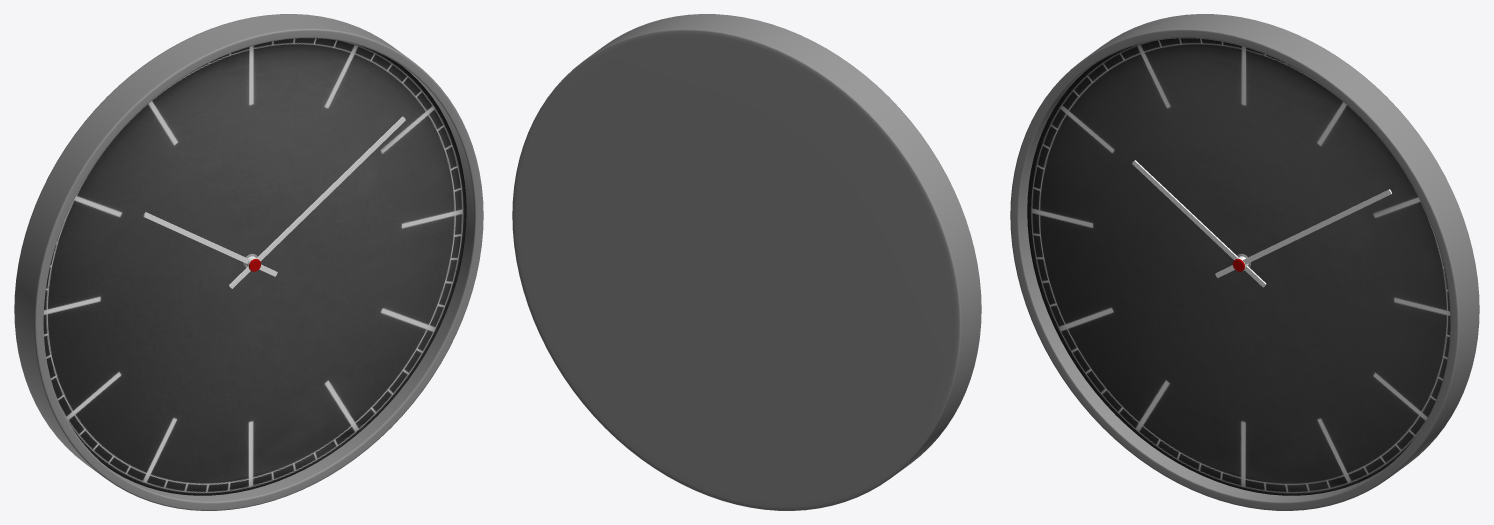
3 renders of one model, left to right at view 1: azimuth 30°, elevation 25°; view 2: azimuth 150°, elevation 25°; view 3: azimuth 330°, elevation 25°, orthographic.
Visible parts, largest first — view 1: Cylinder002, MetalRim, arrow001, arrow002; view 2: MetalRim; view 3: Cylinder002, MetalRim, arrow001, arrow002.
Part boxes in pixels (<box>): Cylinder002: <box>43,38,466,495</box>; MetalRim: <box>14,14,483,510</box>; arrow001: <box>229,116,405,288</box>; arrow002: <box>143,212,277,276</box>; MetalRim: <box>512,14,981,510</box>; Cylinder002: <box>1027,38,1450,495</box>; MetalRim: <box>1010,14,1479,510</box>; arrow001: <box>1215,189,1391,277</box>; arrow002: <box>1132,160,1266,287</box>.
Size of the model in its own units: 23.39 by 23.39 by 1.97.
Materials: 4 (1 with a texture image).
